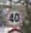limite 40: (2, 4, 25, 28)
